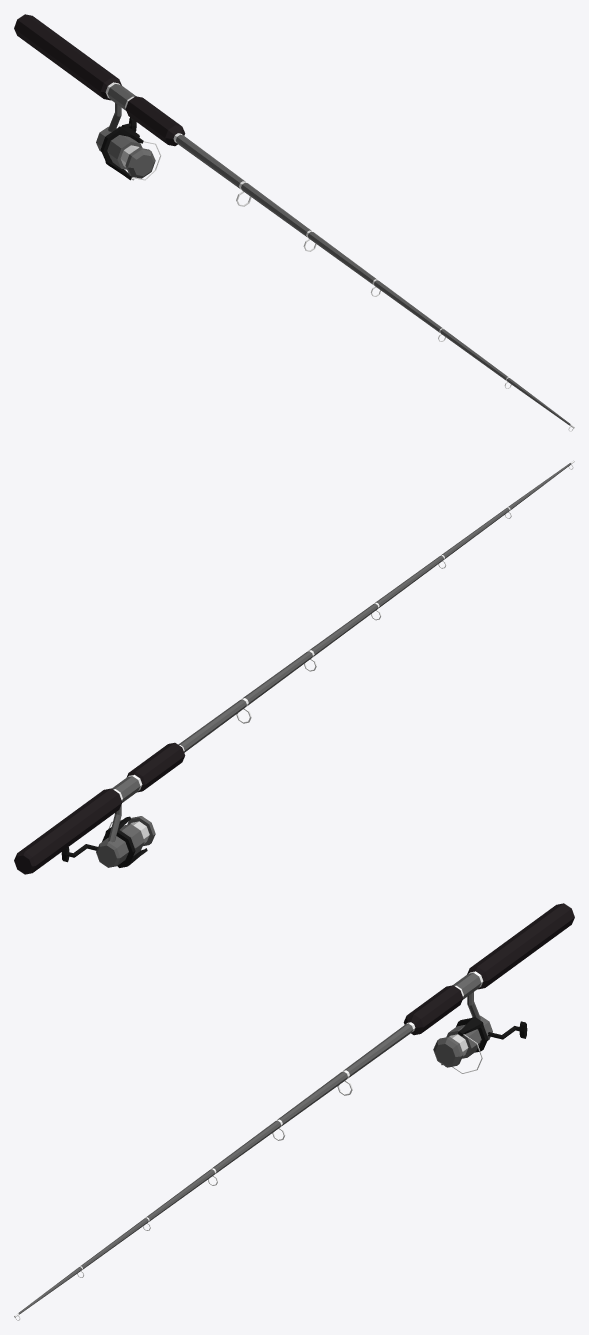
The model's file is FishingRod.glb.
The picture shows the model from 3 angles, top to bottom: view 1: azimuth 30°, elevation 25°; view 2: azimuth 150°, elevation 25°; view 3: azimuth 330°, elevation 25°; orthographic projection.
Parts seen in each view (by area): view 1: FishingRod; view 2: FishingRod; view 3: FishingRod.
Part boxes in pixels (x1,y1,x2,y2): FishingRod: [14, 14, 574, 431]; FishingRod: [14, 460, 574, 874]; FishingRod: [14, 903, 574, 1320].
Bounding box in the file's own units: 0.1806 × 0.2888 × 3.3.
1 material, 1 textured.
